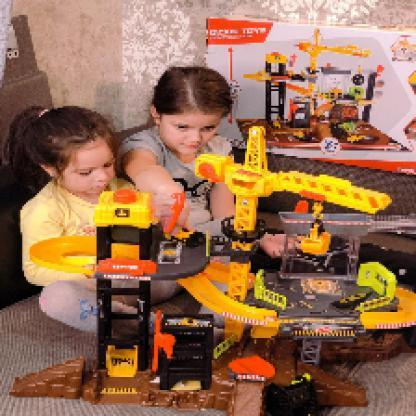child: (6, 105, 185, 339), (118, 65, 238, 219)
